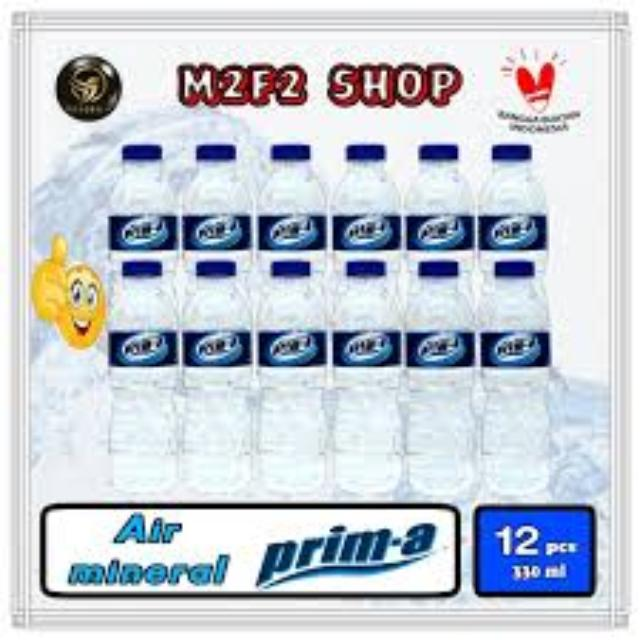trash: (102, 256, 184, 499), (176, 258, 254, 500), (258, 260, 330, 502), (404, 258, 476, 500), (325, 252, 395, 500), (478, 262, 550, 498), (106, 140, 182, 332), (254, 140, 330, 326), (484, 144, 554, 332), (182, 142, 252, 328), (331, 140, 401, 326), (404, 141, 472, 331)
